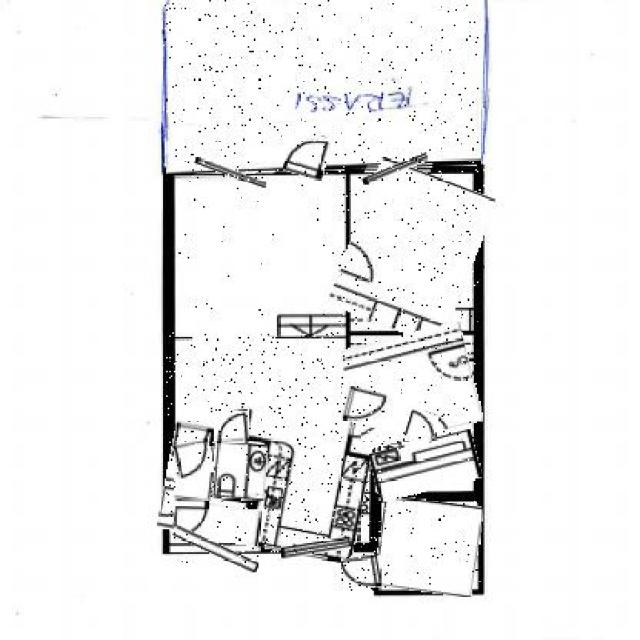door: (286, 132, 329, 177), (342, 389, 391, 428), (342, 555, 382, 591), (174, 440, 212, 477), (177, 498, 211, 537), (214, 412, 249, 443), (406, 411, 437, 442)
window: (172, 534, 260, 563), (280, 538, 351, 557), (194, 165, 268, 183), (362, 158, 428, 178)
zone: (163, 0, 479, 171), (166, 332, 380, 556), (174, 175, 346, 334), (338, 164, 484, 338), (344, 329, 478, 443), (377, 497, 481, 594), (371, 436, 480, 496), (174, 504, 261, 544), (214, 443, 268, 500), (175, 444, 214, 498)
